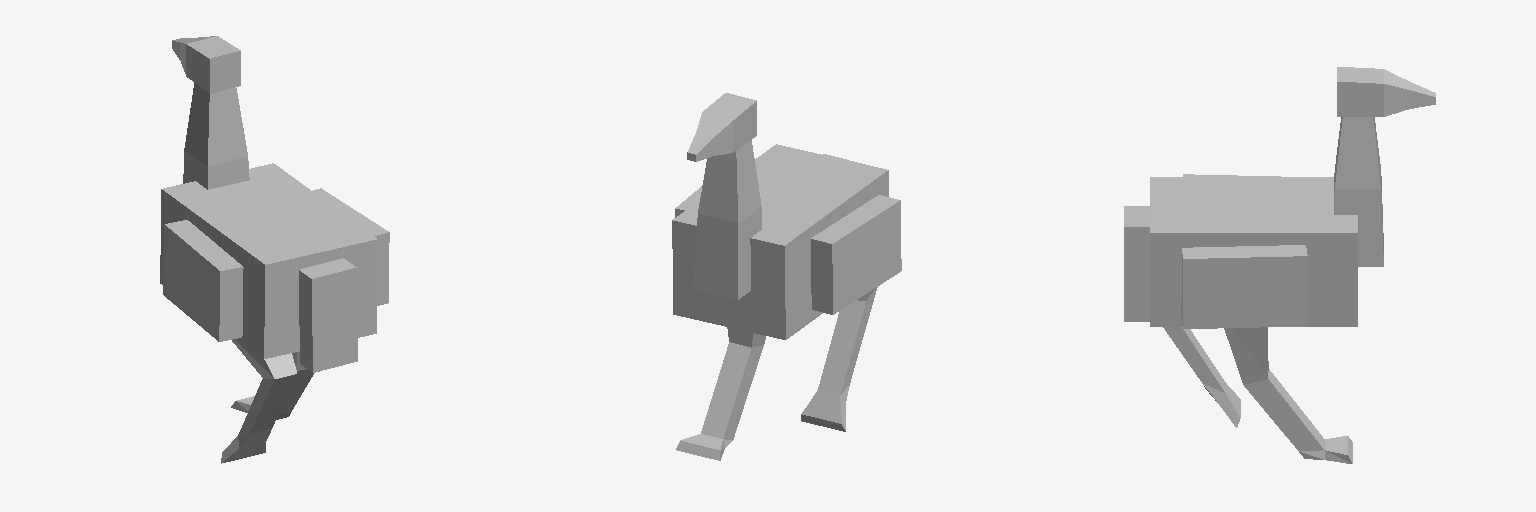
The model's file is Ostrich_000186.obj.
3 views of the same model, side by side, from view 1: azimuth 30°, elevation 25°; view 2: azimuth 150°, elevation 25°; view 3: azimuth 270°, elevation 25° (orthographic).
Parts seen in each view (by area): view 1: Cube_Cube.001; view 2: Cube_Cube.001; view 3: Cube_Cube.001.
Boxes of the visible parts, <box> form: Cube_Cube.001: <box>160,36,389,463</box>; Cube_Cube.001: <box>672,93,901,460</box>; Cube_Cube.001: <box>1124,67,1435,463</box>.
Size of the model in its own units: 0.7572 by 1.54 by 1.2.